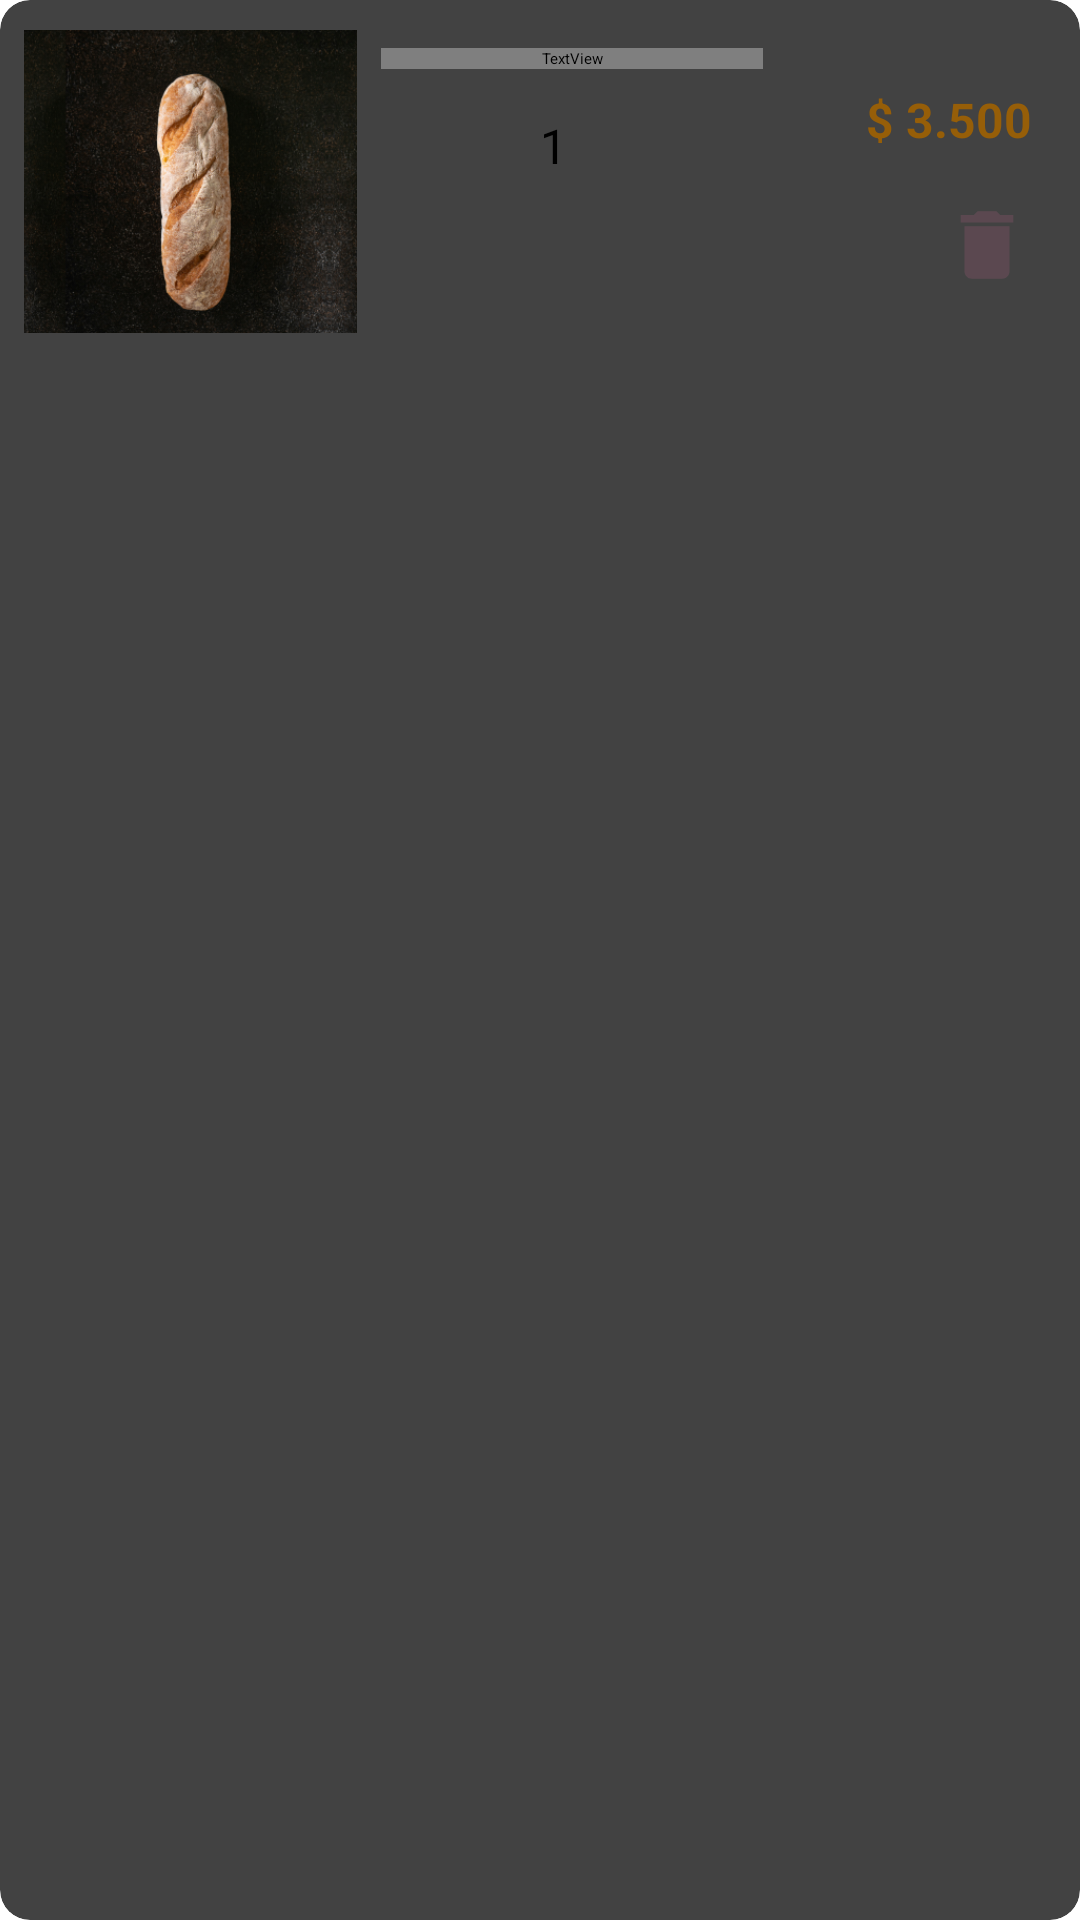

Icon click points for this 1080w x 1920h phone screenshot, format point (x, y):
baggeeprod: point (190, 181)
